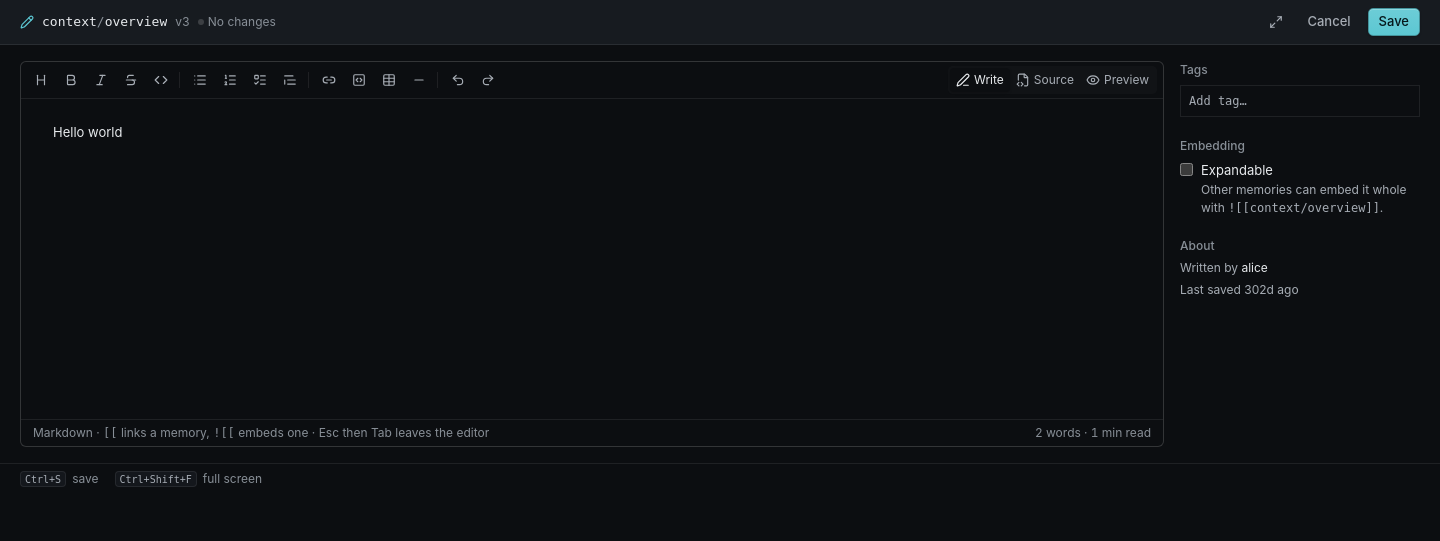
Test: MemoryEditor › stays dirty when the save fails
Click the checkbox labelled "Expandable".
click(1186, 170)  # box [1180,163,1193,176]
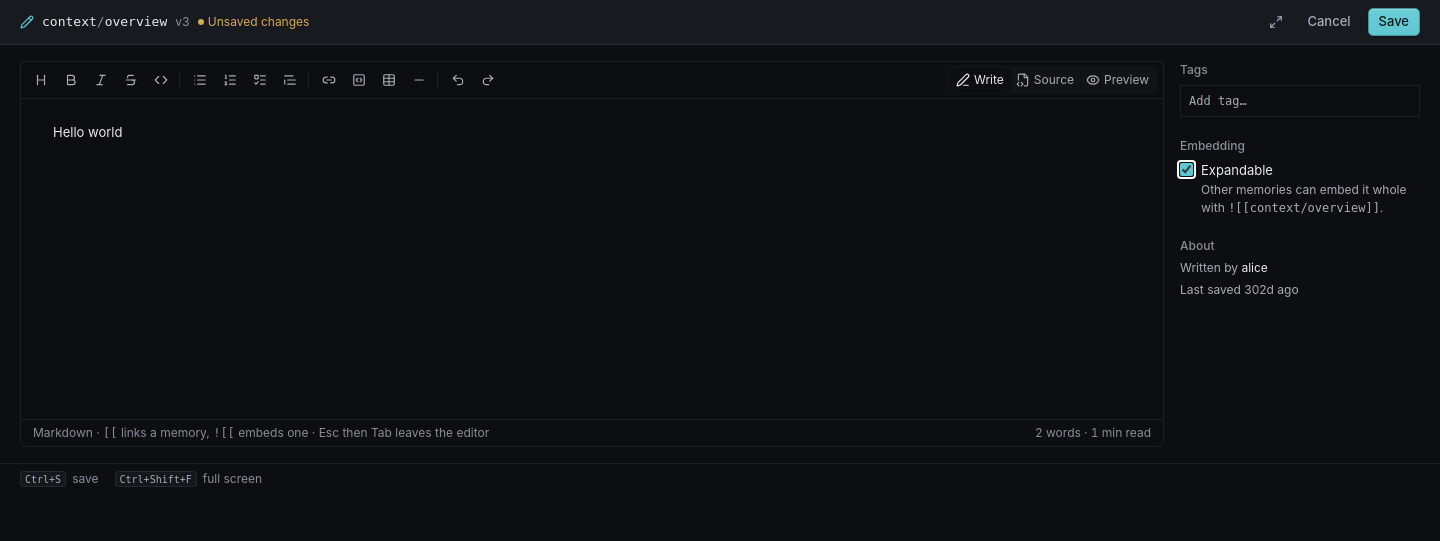
Click the button "Save".
click(1394, 22)  # box [1368,8,1420,36]
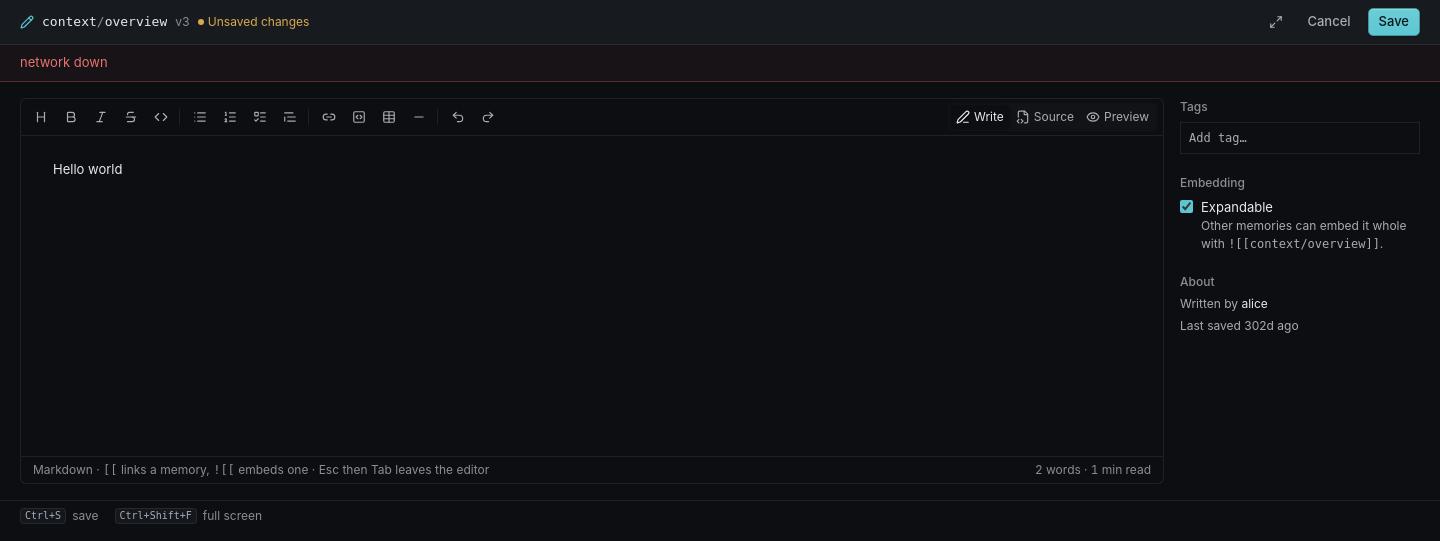
Check: the text "network down" is shown, box [20,54,108,70]
